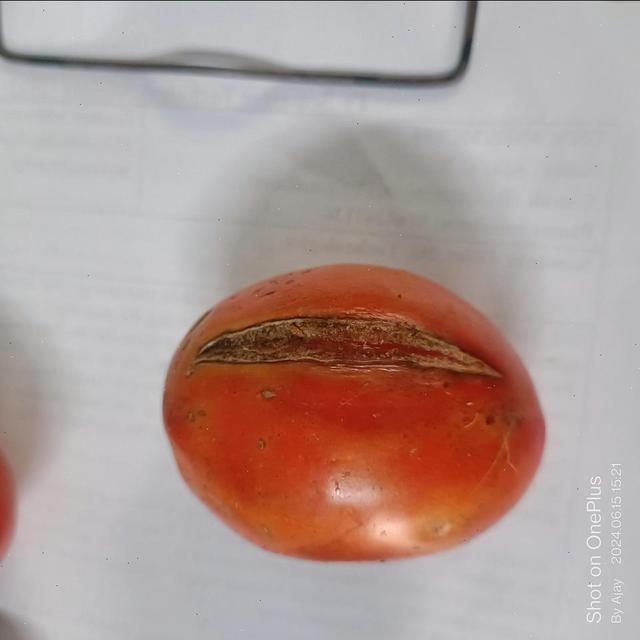Cracking Fruit: (114, 131, 456, 382)
